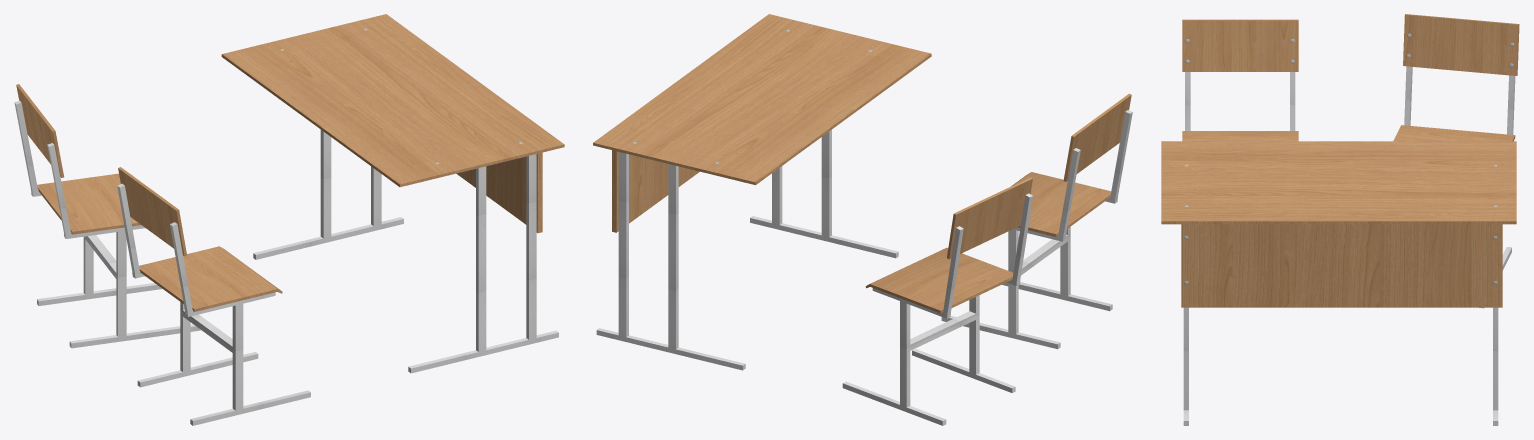
The picture shows the model from 3 angles, left to right: view 1: azimuth 30°, elevation 25°; view 2: azimuth 150°, elevation 25°; view 3: azimuth 270°, elevation 25°; orthographic projection.
Parts seen in each view (by area): view 1: TableChrome; view 2: TableChrome; view 3: TableChrome.
Boxes of the visible parts, left/top/right/bottom form: TableChrome: left=14, top=14, right=564, bottom=425; TableChrome: left=593, top=14, right=1132, bottom=425; TableChrome: left=1161, top=14, right=1519, bottom=425.
Size of the model in its own units: 42.43 by 22.57 by 33.25.
